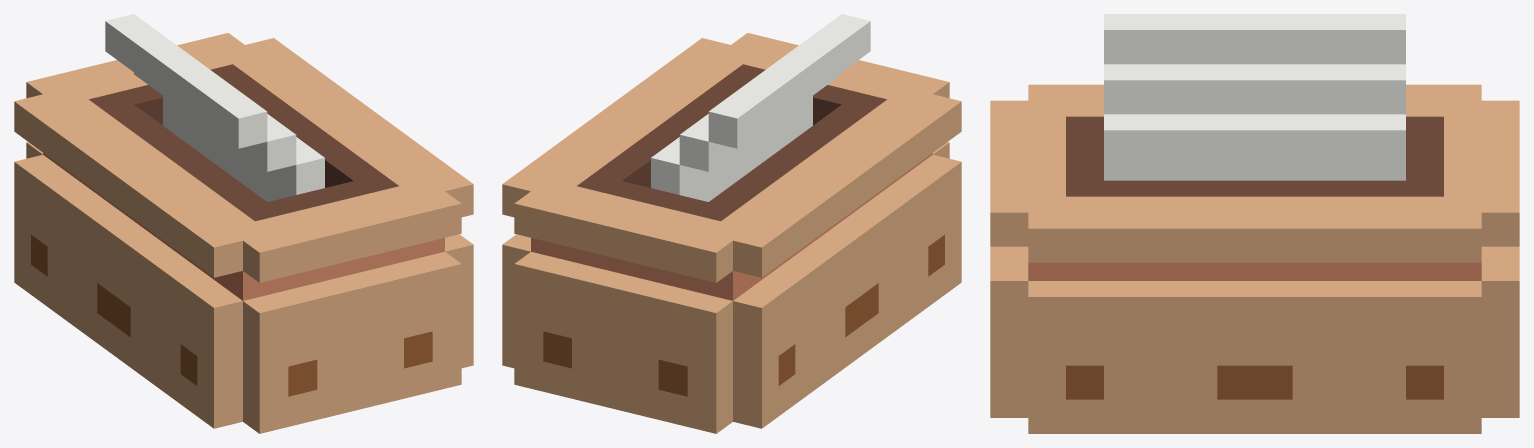
File: Tissue.fbx
3 views of the same model, side by side, from view 1: azimuth 30°, elevation 25°; view 2: azimuth 150°, elevation 25°; view 3: azimuth 270°, elevation 25° (orthographic). The views are drawn at different scales.
Visible parts, largest first — view 1: tissue:tissue; view 2: tissue:tissue; view 3: tissue:tissue.
Part boxes in pixels (bbox=[...]): tissue:tissue: bbox=[14, 14, 473, 433]; tissue:tissue: bbox=[502, 14, 961, 433]; tissue:tissue: bbox=[990, 14, 1519, 433].
Size of the model in its own units: 9 by 9 by 14.
